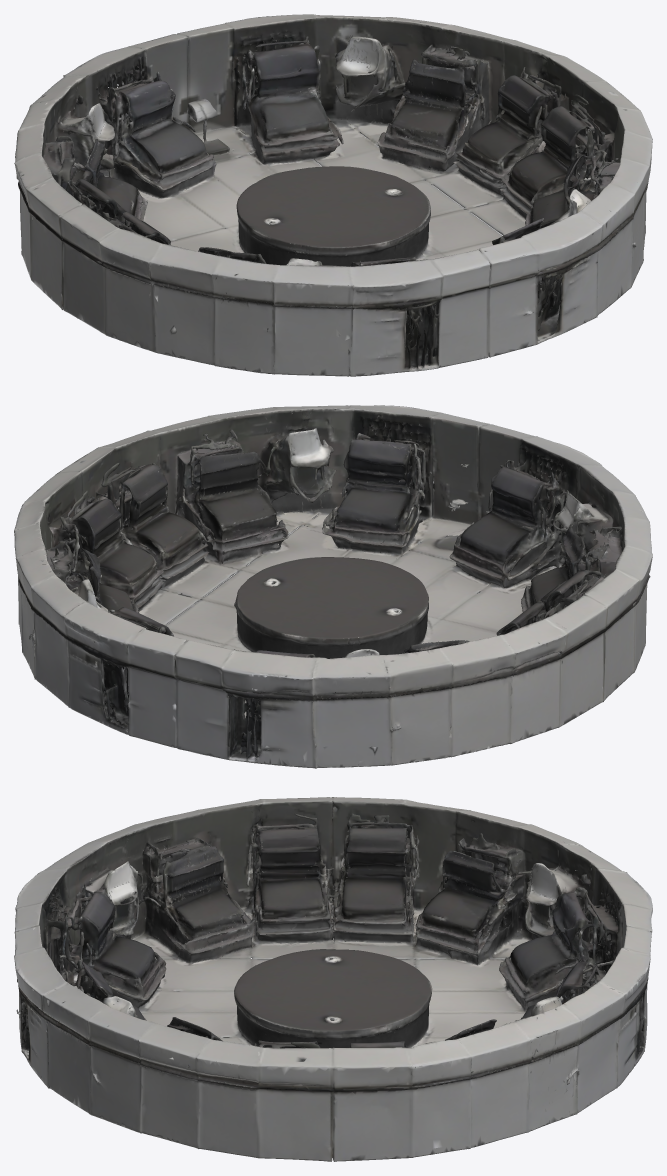
The model's file is hover3.glb.
3 renders of one model, top to bottom at view 1: azimuth 30°, elevation 25°; view 2: azimuth 150°, elevation 25°; view 3: azimuth 270°, elevation 25°, orthographic.
Bounding box in the file's own units: 2.01 × 0.446 × 2.
1 material, 1 textured.
